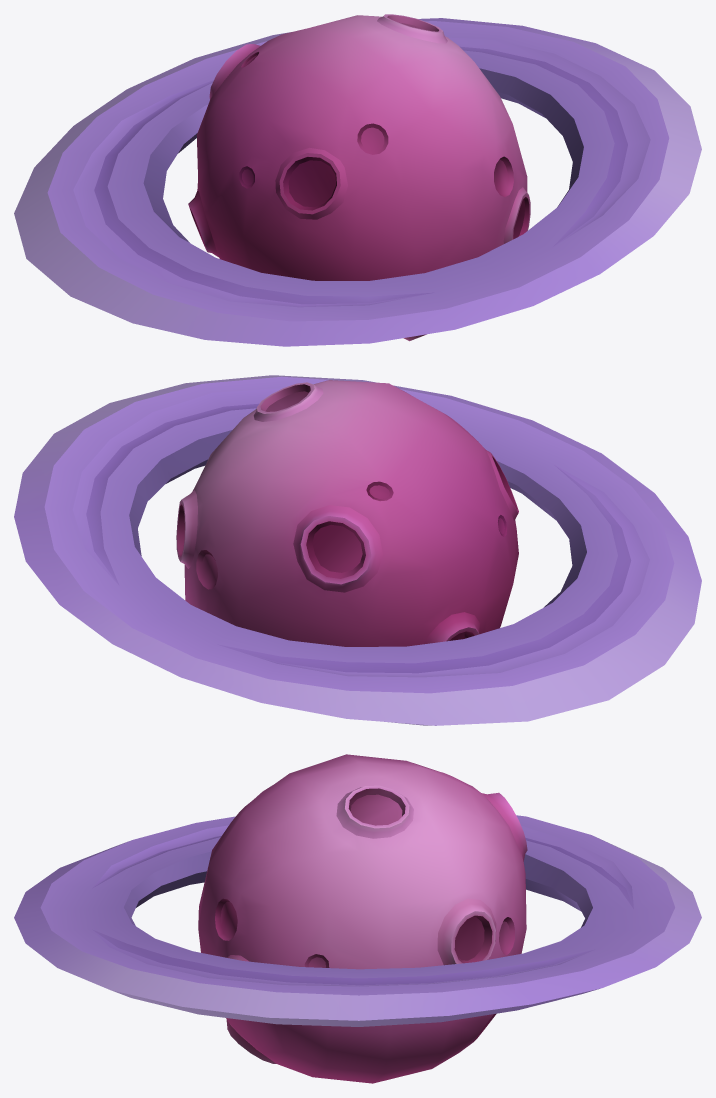
Rendered from SM_Asteroid_04.fbx.
The picture shows the model from 3 angles, top to bottom: view 1: azimuth 30°, elevation 25°; view 2: azimuth 150°, elevation 25°; view 3: azimuth 270°, elevation 25°; orthographic projection. The views are drawn at different scales.
Visible parts, largest first — view 1: SM_Asteroid_04; view 2: SM_Asteroid_04; view 3: SM_Asteroid_04.
Part boxes in pixels (x1=…): SM_Asteroid_04: x1=14, y1=14, x2=701, y2=346; SM_Asteroid_04: x1=14, y1=375, x2=701, y2=725; SM_Asteroid_04: x1=14, y1=754, x2=701, y2=1083.
Bounding box in the file's own units: 32.83 × 15.59 × 32.85.
